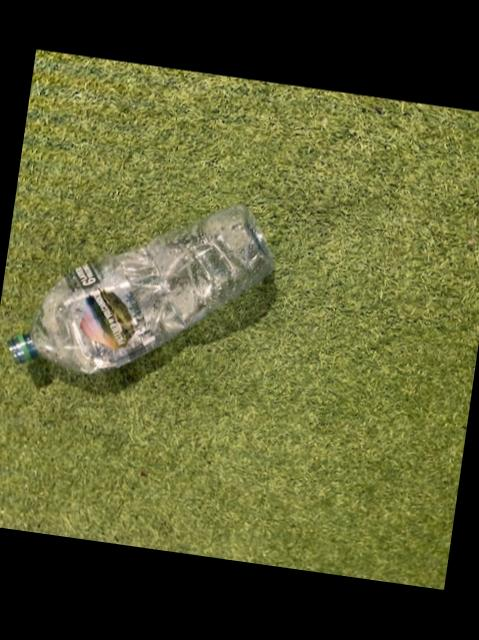plastic: (6, 206, 270, 374)
